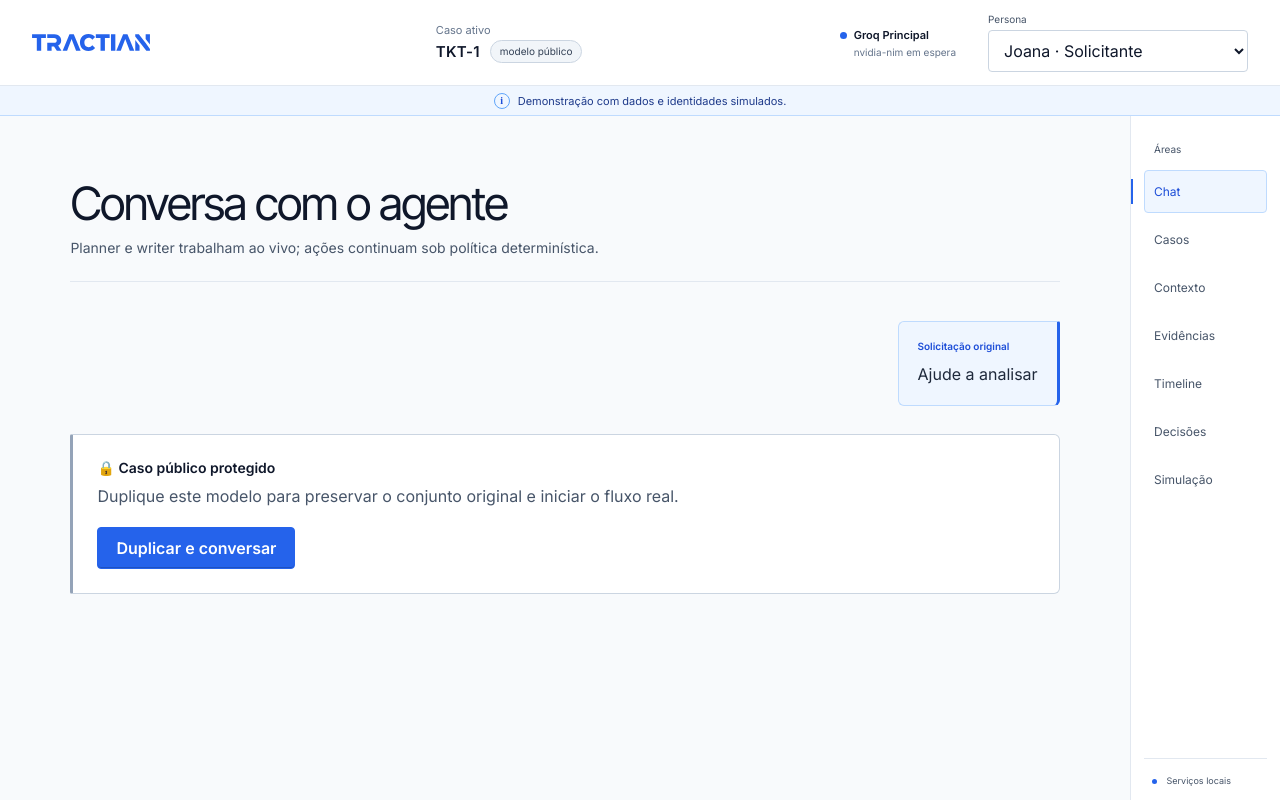
Test: central de casos › troca a área esquerda pelo menu fixo da direita sem perder o caso
The width and height of the screenshot is (1280, 800).
expect the text "TKT-1" is shown: met, box 436,42 -> 480,60
Click the button "Contexto": (1206, 288) 1144,266 -> 1267,309
(page scrolled)
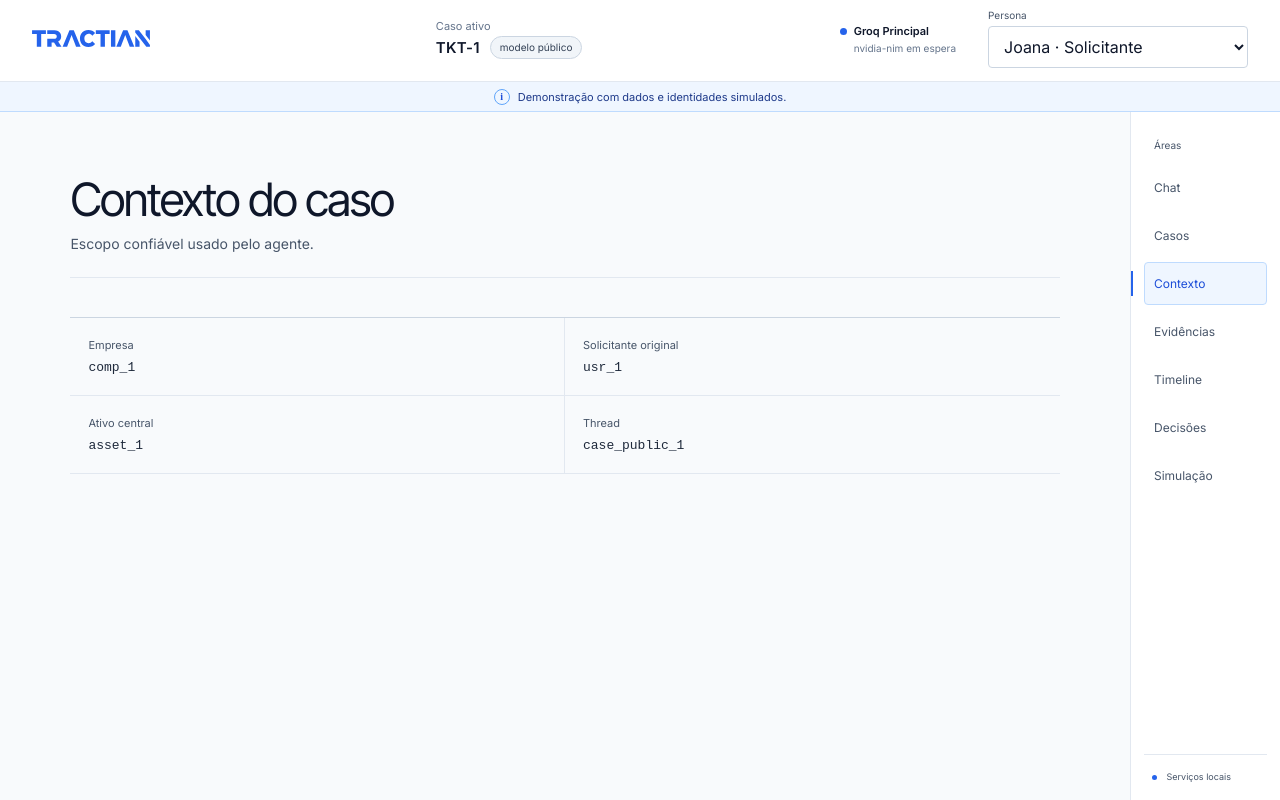
expect the heading "Contexto do caso" is shown: met, box 70,171 -> 394,227
expect the text "asset_1" is shown: met, box 88,438 -> 143,453
